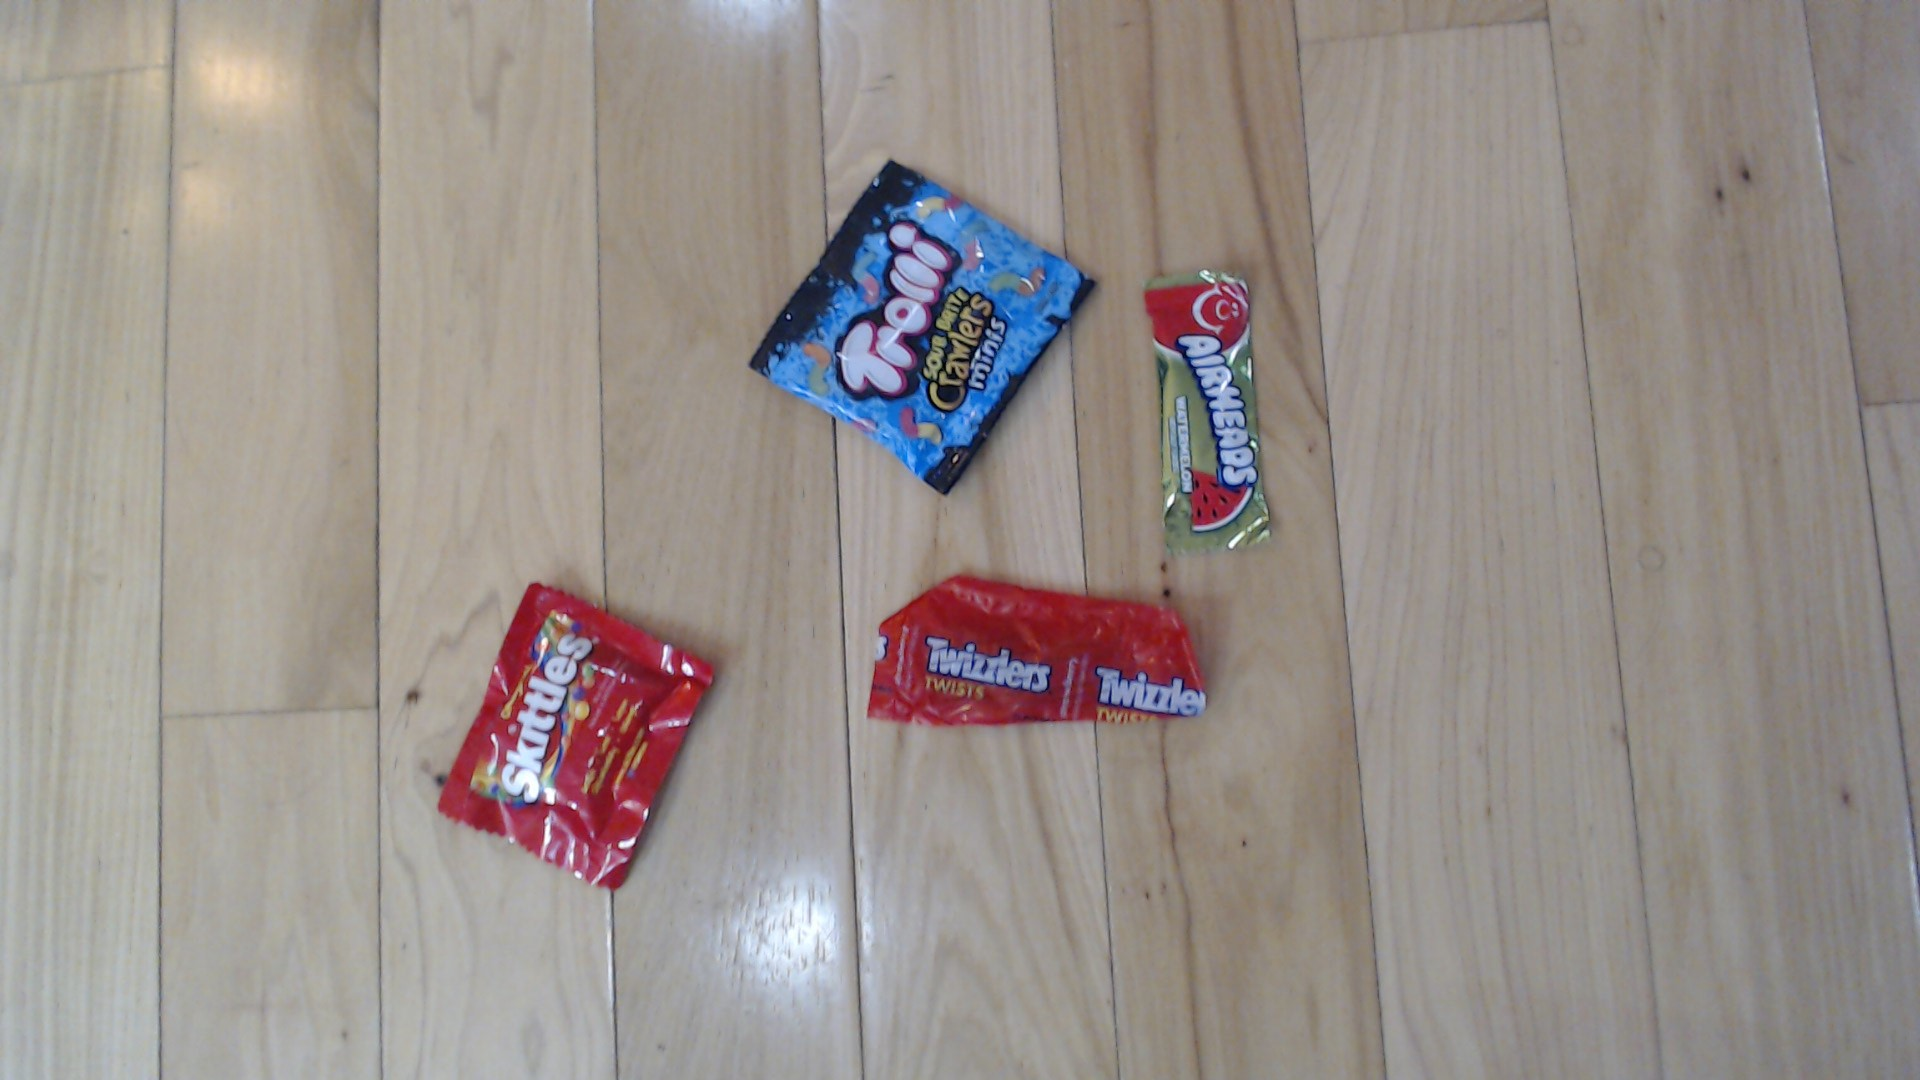airheads: (1126, 237, 1283, 538)
gummy_worms: (736, 115, 1096, 501)
skittles: (448, 564, 721, 902)
twizzlers: (861, 551, 1217, 727)
